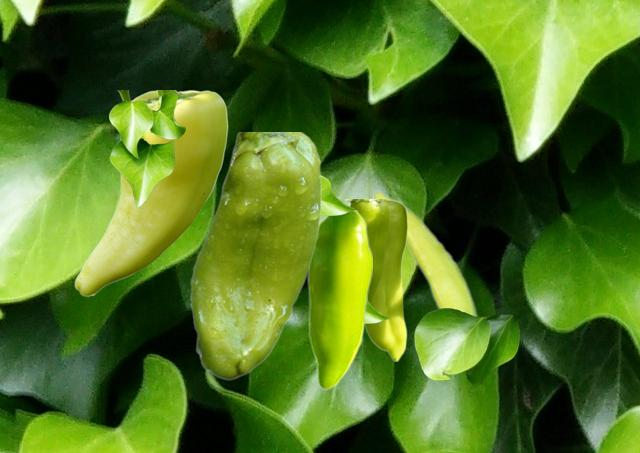green_chili: (190, 132, 320, 379), (74, 90, 227, 296), (373, 189, 478, 315), (307, 210, 371, 389), (344, 199, 406, 360)
